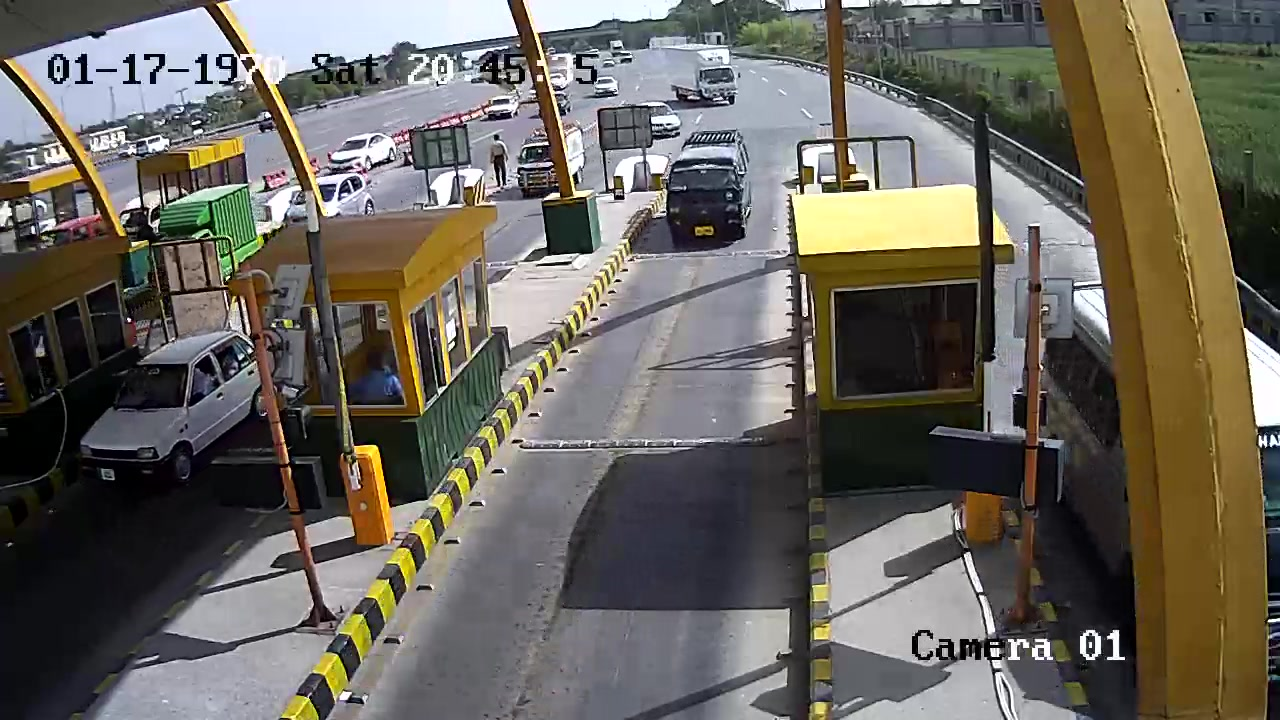F2: (657, 121, 760, 253)
